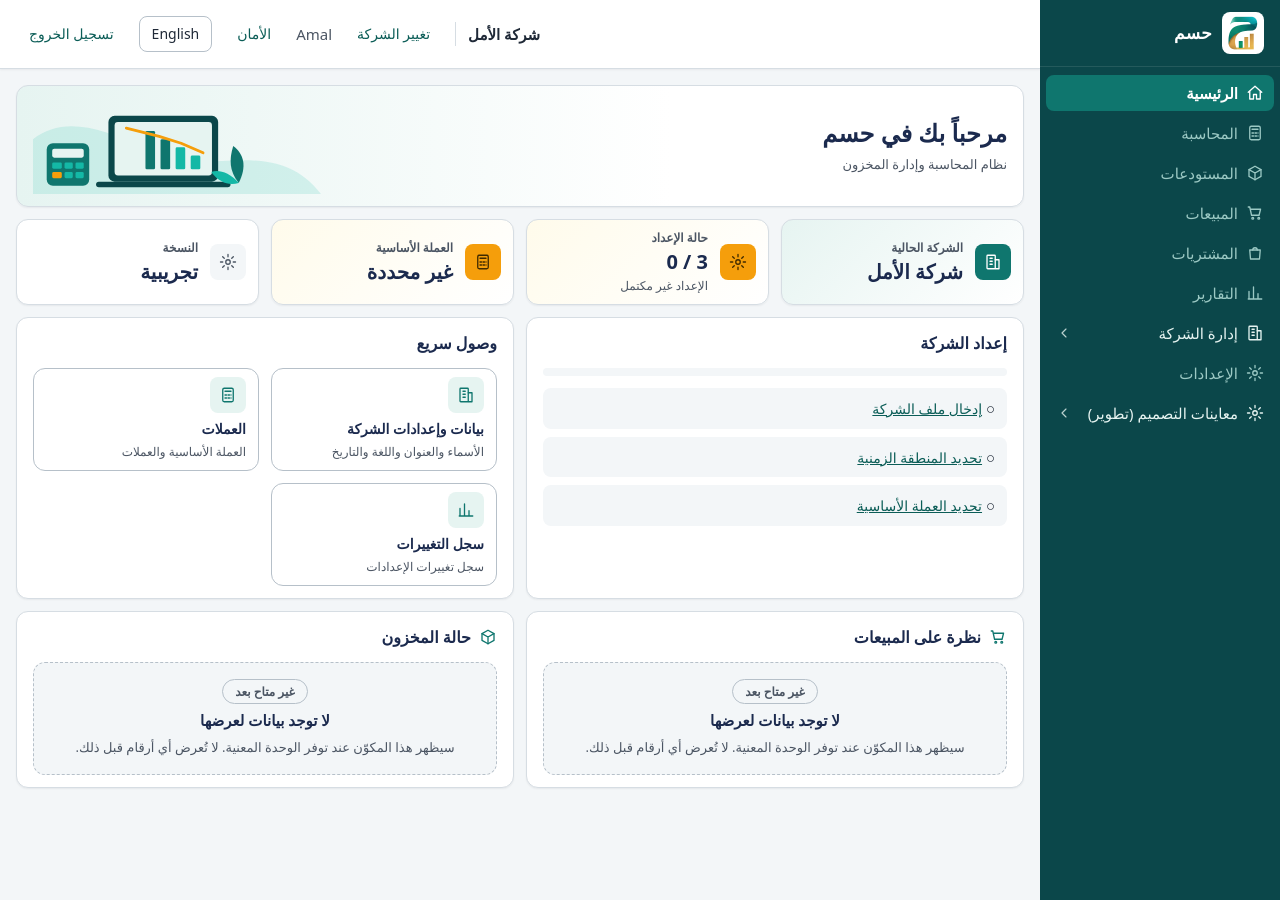
security settings screen › is reached from the header, shows the two-step state, and a user without it is offered the voluntary enrolment
What coordinates should you click on to do the following:
click the button with test id "nav-security"
I would click on:
 (254, 34)
Its box is [224,16,284,52].
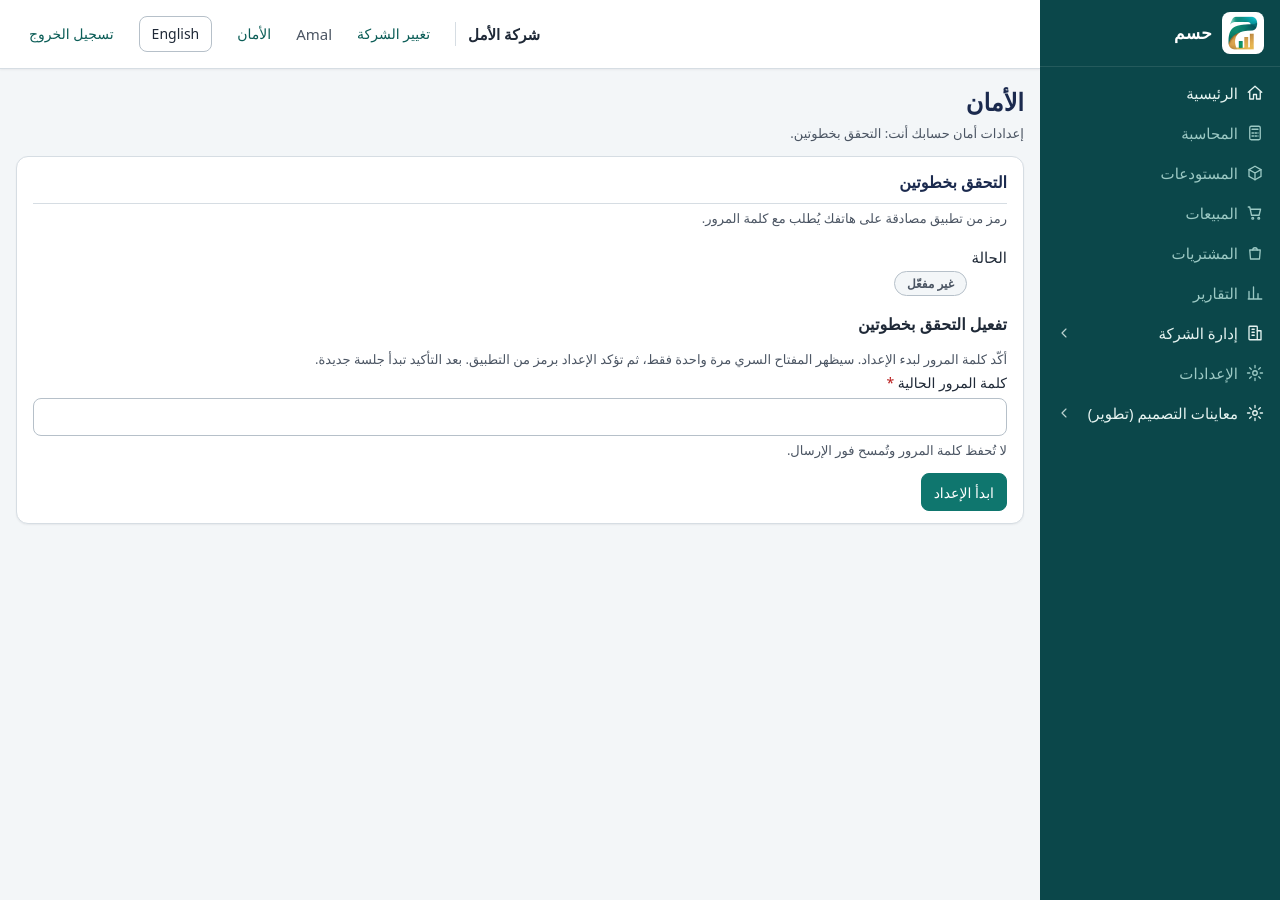
Check: the heading "الأمان" is shown, box [966,85,1024,118]
Check: the text with test id "sec-state-chip" reads "غير مفعّل", box [907,275,954,292]
Check: the element with test id "sec-enrol-begin" is shown, box [33,311,1007,511]
